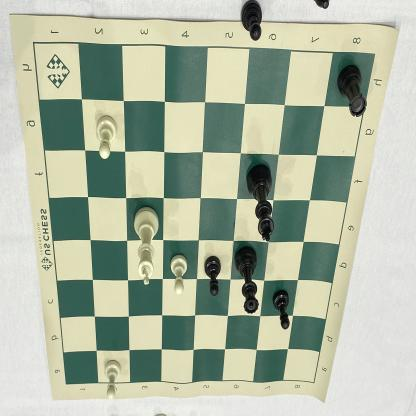black-king: (244, 160, 278, 243)
black-pawn: (202, 251, 223, 298), (271, 289, 291, 333)
black-queen: (234, 242, 259, 323)
black-rook: (333, 61, 367, 120)
white-king: (129, 203, 161, 288)
white-pawn: (91, 113, 120, 162), (101, 356, 124, 401), (167, 252, 189, 299)
